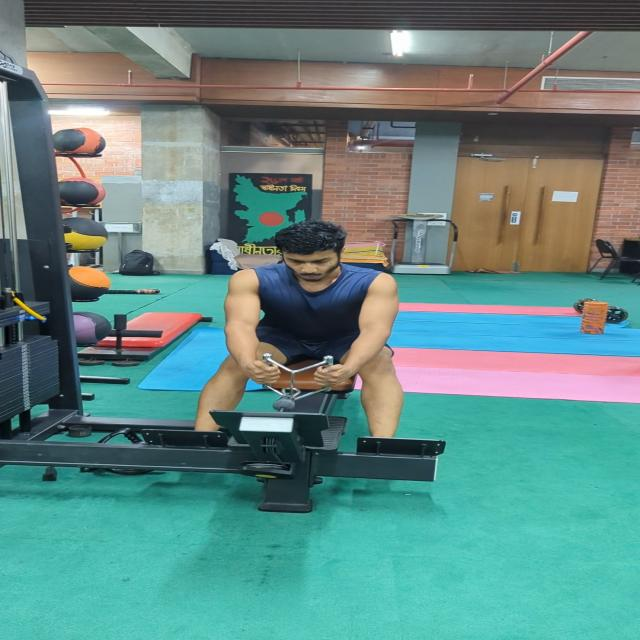Normal_RowingMachineExercise: (191, 219, 404, 440)
